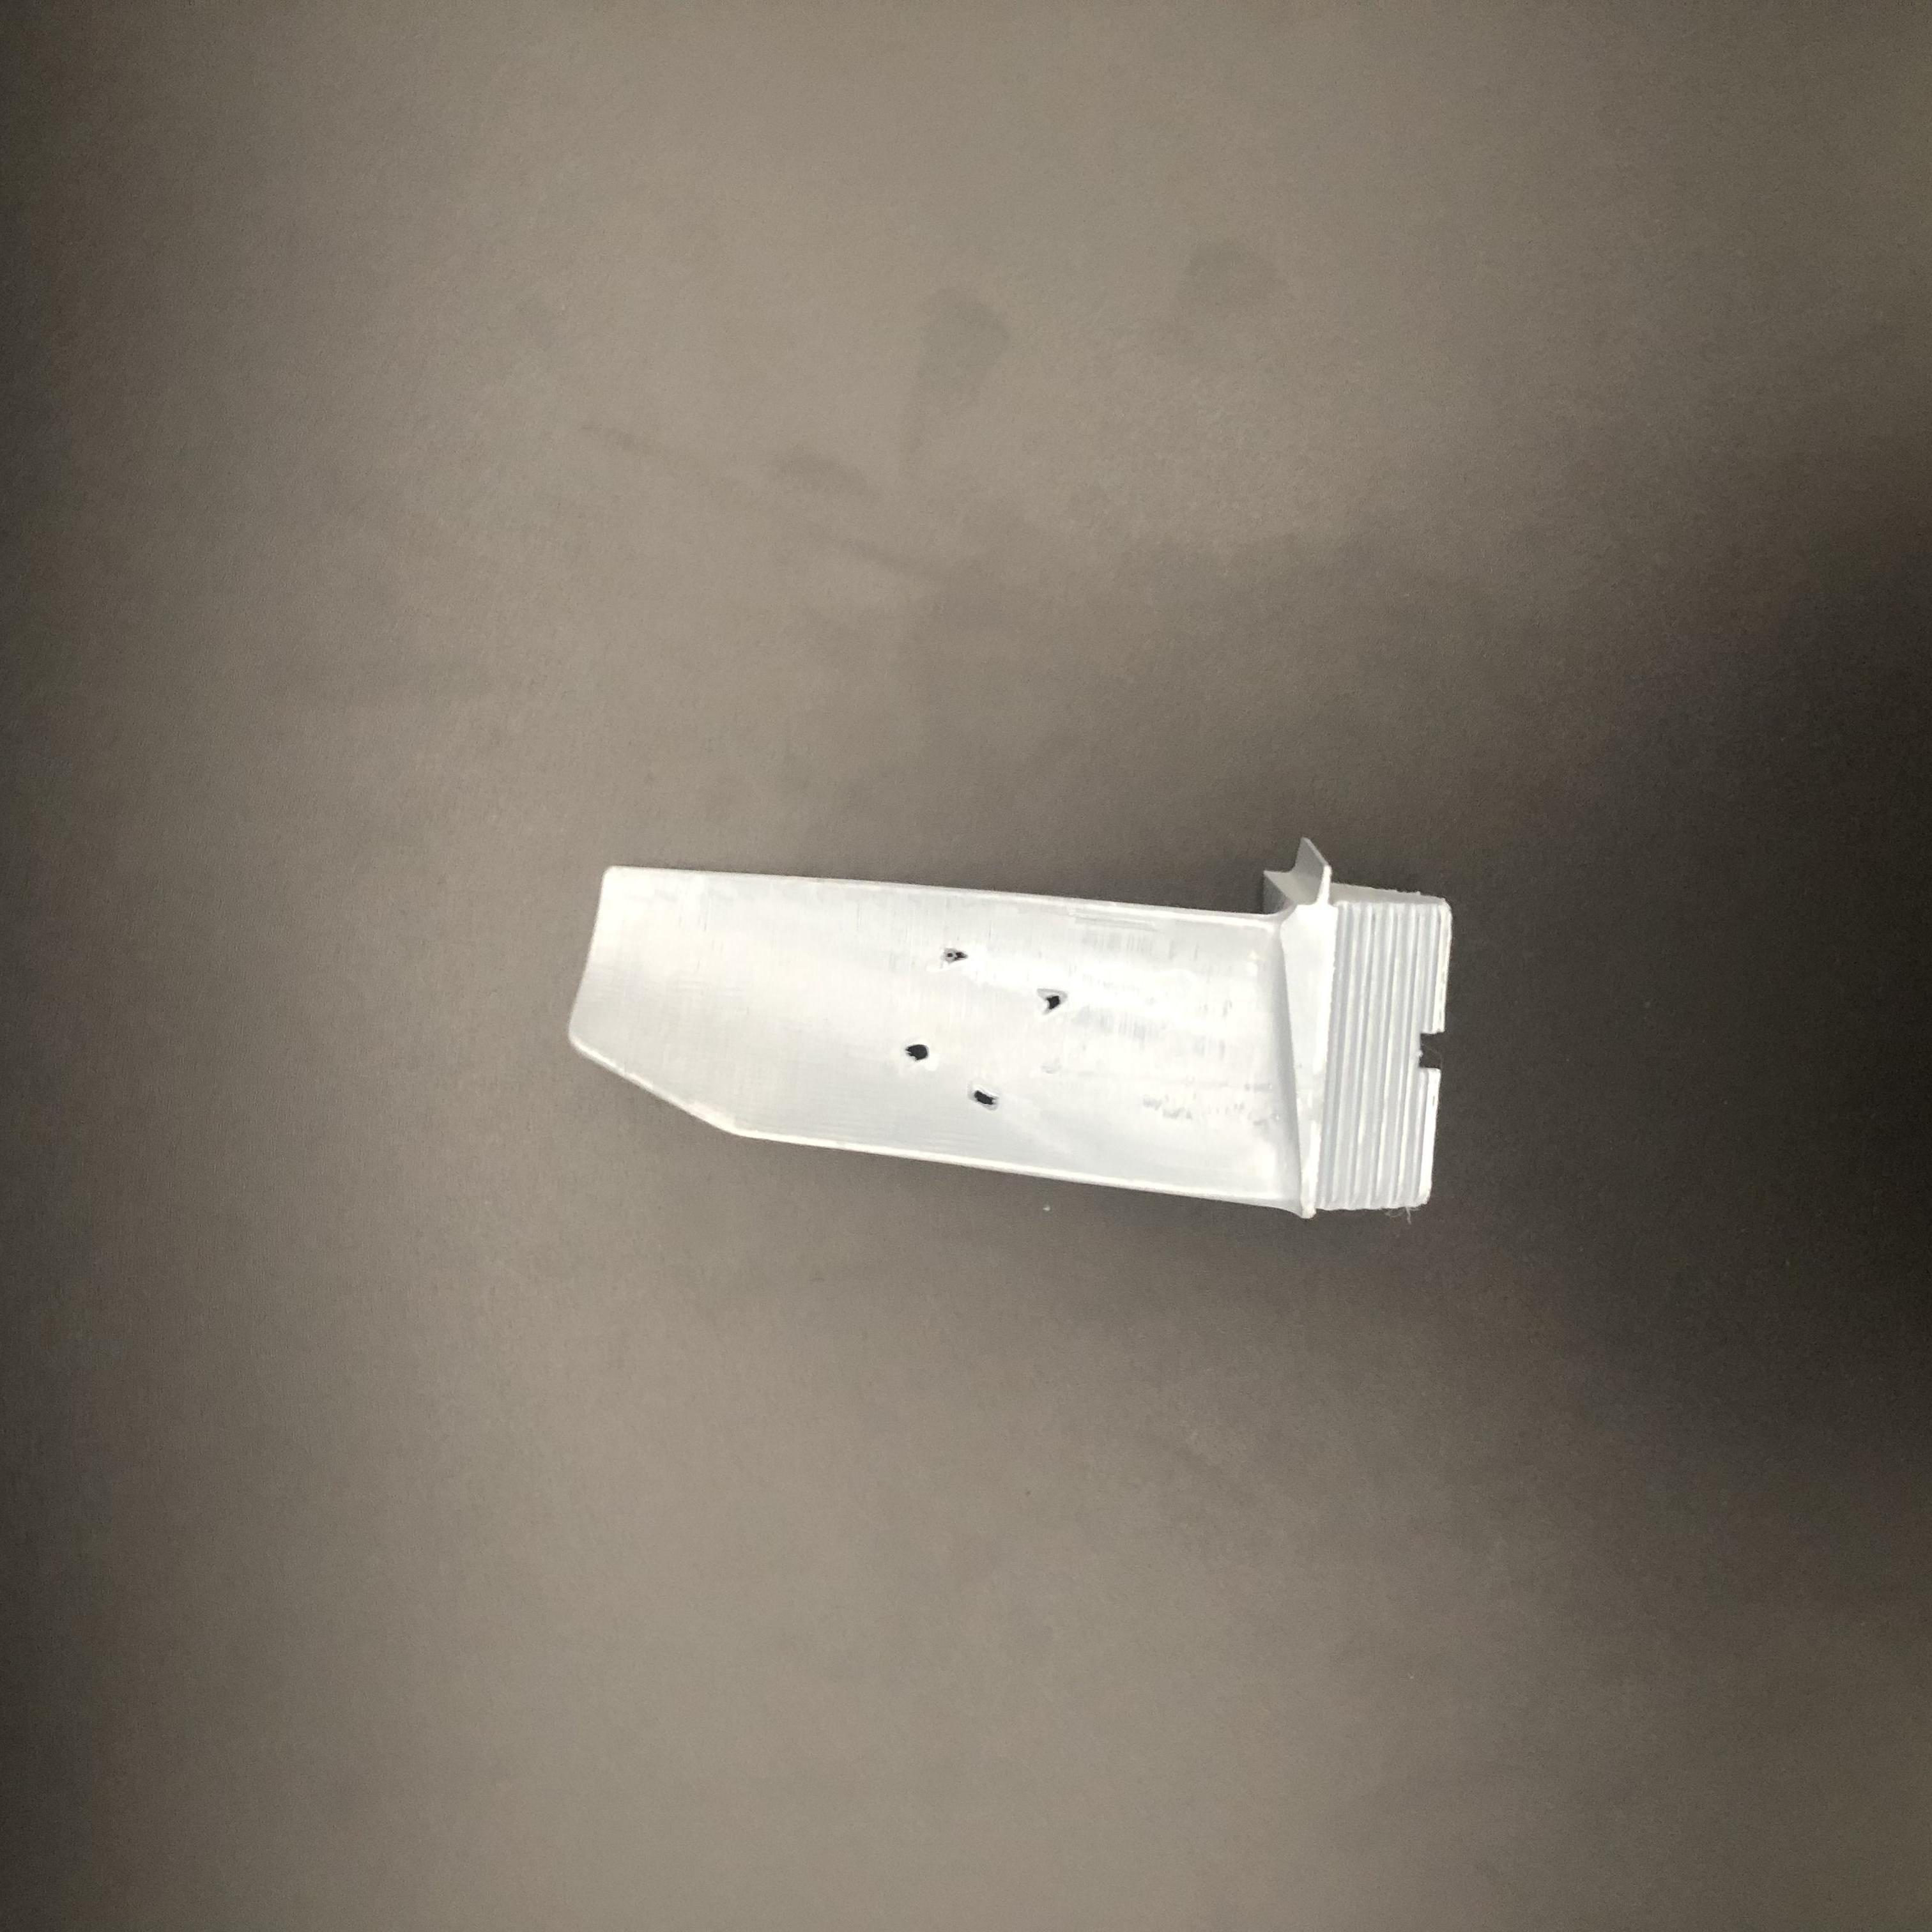breakdown: (895, 941, 1067, 1111)
